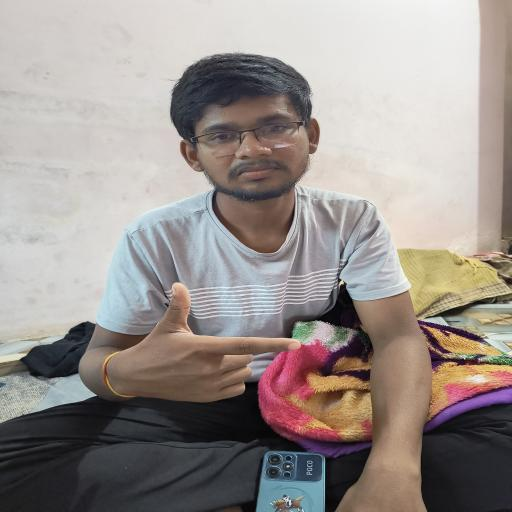OK: (110, 284, 317, 425)
